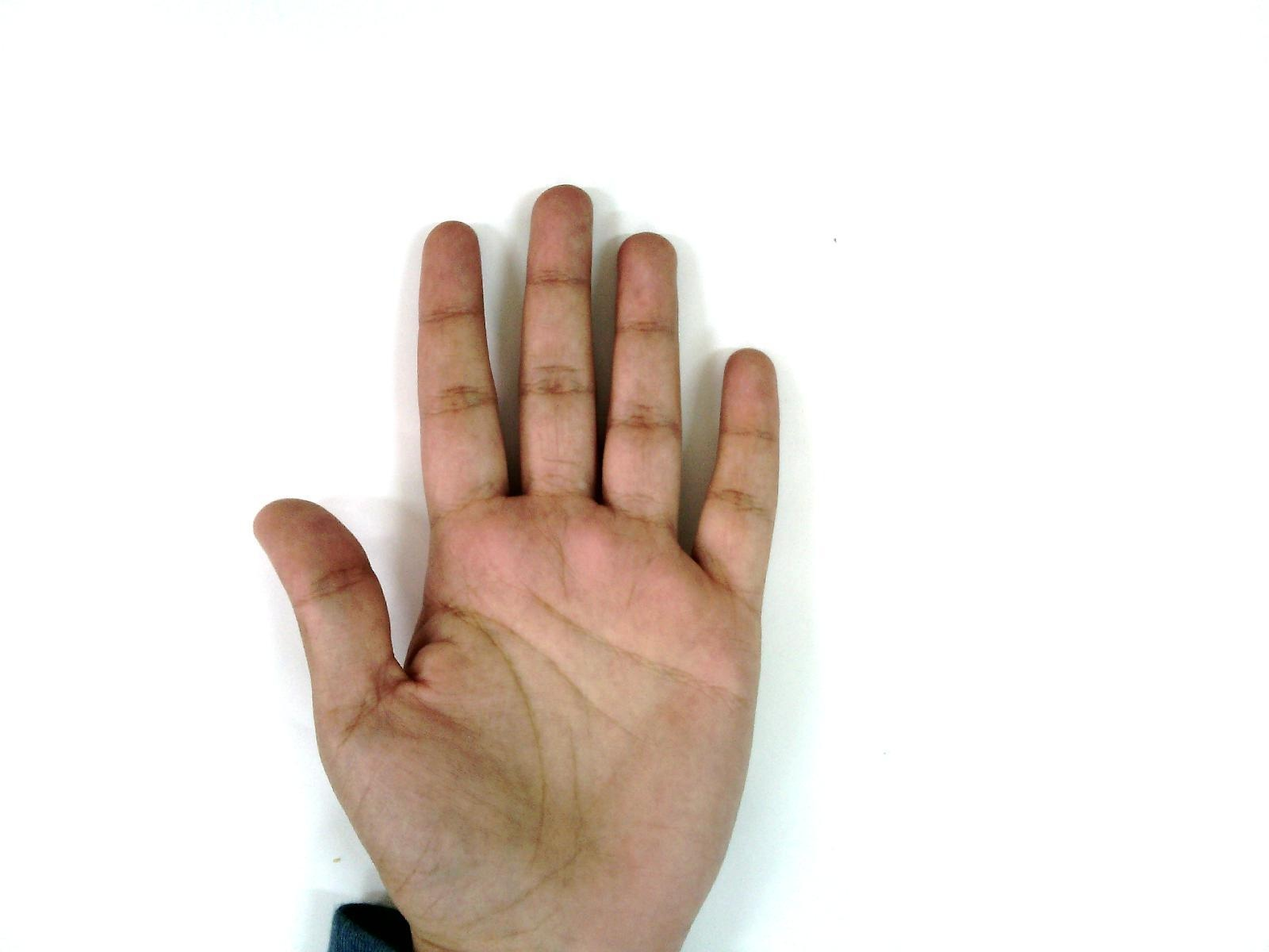open_palm: (251, 183, 785, 951)
